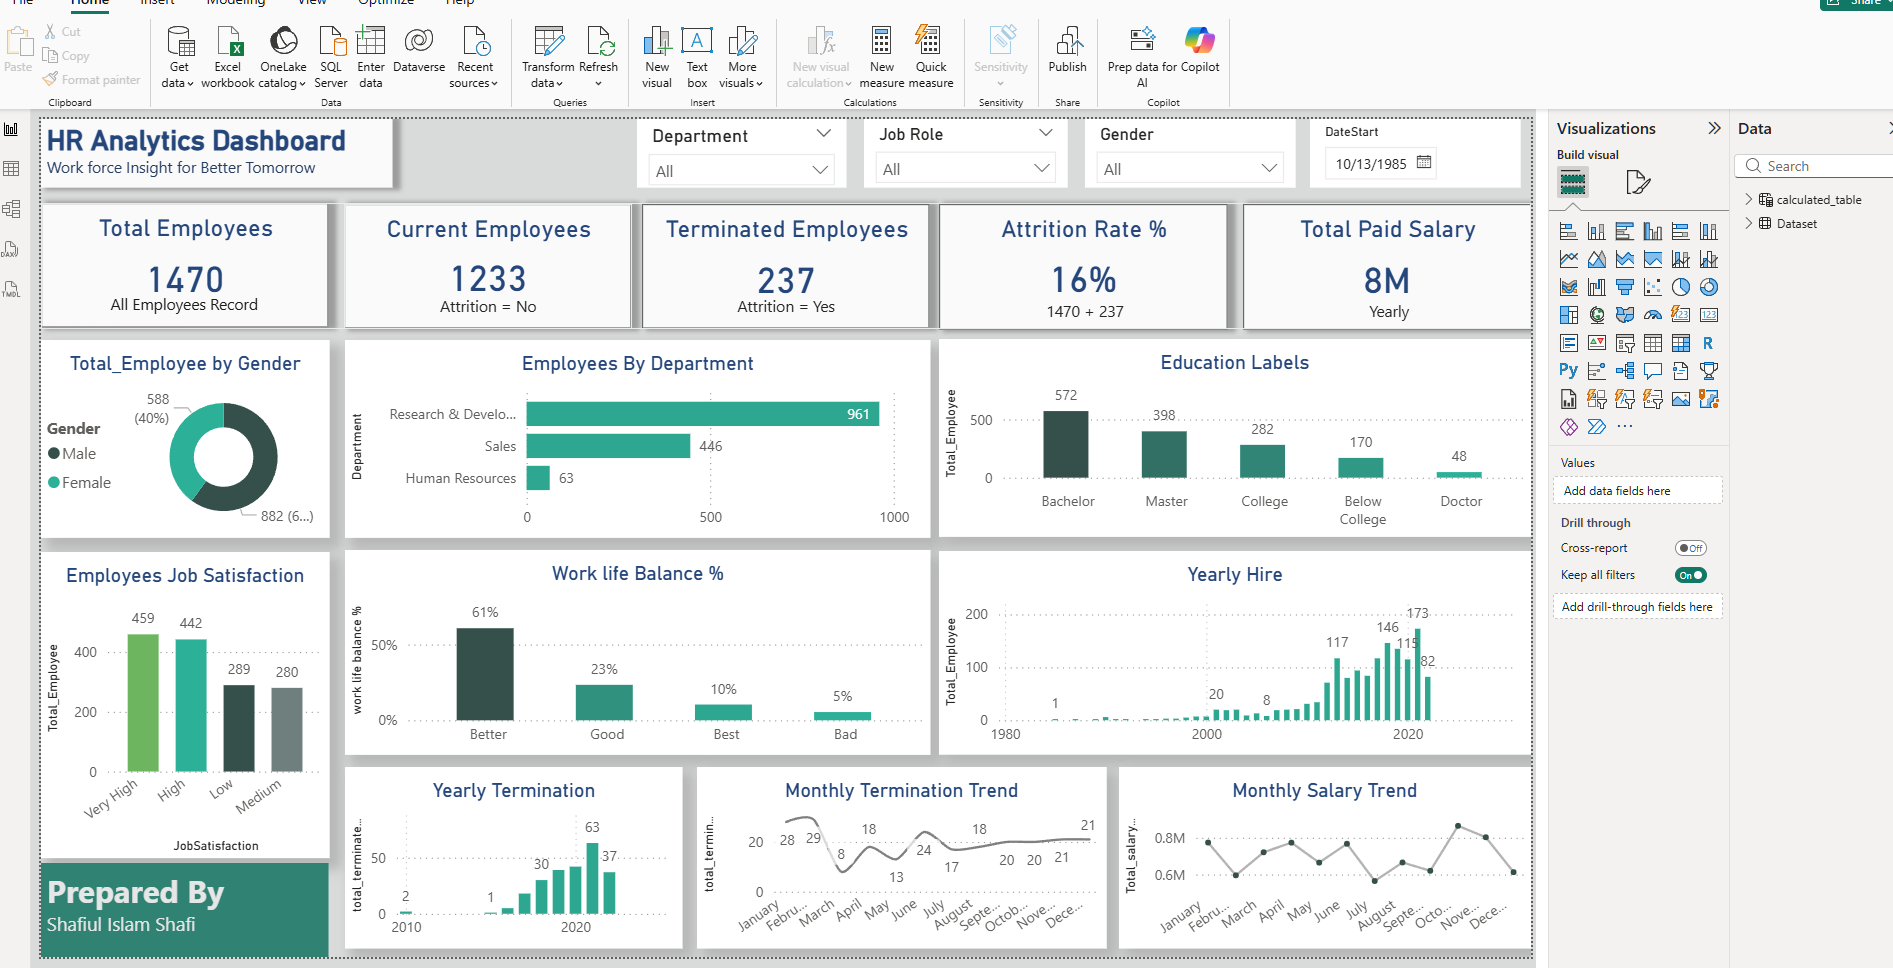

The dashboard page shown, as its layout file describes it:
{"tool":"powerbi","page":{"name":"Page 1","canvas":[1280,720],"ordinal":0},"visuals":[{"type":"textbox","box":[0,0,302.1,58.8],"z":0},{"type":"group","id":"g1","title":"Group 1","box":[0,72.3,247.4,107.3],"z":0,"group":"g3"},{"type":"card","title":"Total Employees","fields":{"Values":["calculated_table.Total_Employee"]},"box":[0,72.3,247.4,107.3],"z":0,"group":"g1"},{"type":"textbox","box":[49.4,73,148.1,30],"z":1000},{"type":"group","id":"g2","title":"Group 2","box":[260.1,73.3,247.7,107.4],"z":1000,"group":"g3"},{"type":"card","title":"Current Employees","fields":{"Values":["calculated_table.Current_Employees"]},"box":[260.1,73.3,247.4,107.3],"z":1000,"group":"g2"},{"type":"card","title":"Terminated Employees","fields":{"Values":["calculated_table.total_terminated_employees"]},"box":[516.6,73.3,247.4,107.3],"z":1000,"group":"g4"},{"type":"card","title":"Attrition Rate %","fields":{"Values":["calculated_table.Attrition Rate"]},"box":[771.3,73.3,247.7,107.8],"z":1000,"group":"g5"},{"type":"card","title":"Total Paid Salary","fields":{"Values":["calculated_table.Total_salary_out"]},"box":[1032.3,73.3,247.7,107.8],"z":1000,"group":"g6"},{"type":"textbox","box":[49.4,145.2,148.1,29.9],"z":1000,"group":"g1"},{"type":"group","id":"g3","title":"Group 3","box":[0,72.3,1280,108.4],"z":2000},{"type":"group","id":"g4","title":"Group 2","box":[516.6,73.3,246.8,107.4],"z":2000,"group":"g3"},{"type":"group","id":"g5","title":"Group 2","box":[771.3,73.3,247.7,107.4],"z":3000,"group":"g3"},{"type":"donutChart","fields":{"Category":["Dataset.Gender"],"Y":["calculated_table.Total_Employee"]},"box":[0,189.5,247.7,170.1],"z":3000},{"type":"textbox","box":[294.3,147.4,179,28.2],"z":3001,"group":"g2"},{"type":"textbox","box":[550.8,147.4,179,28.2],"z":3001,"group":"g4"},{"type":"textbox","box":[807.5,151.9,179,28.2],"z":3001,"group":"g5"},{"type":"textbox","box":[1068.5,151.9,179,28.2],"z":3001,"group":"g6"},{"type":"group","id":"g6","title":"Group 2","box":[1032.3,73.3,247.7,107.4],"z":4000,"group":"g3"},{"type":"clusteredBarChart","title":"Employees By Department","fields":{"Category":["Dataset.Department"],"Y":["calculated_table.Total_Employee"]},"box":[261,189.7,503.3,170.1],"z":4000},{"type":"clusteredColumnChart","title":"Education Labels","fields":{"Y":["calculated_table.Total_Employee"],"Category":["Dataset.Education"]},"box":[771.4,188.8,508.6,170.1],"z":5000},{"type":"columnChart","title":"Employees Job Satisfaction","fields":{"Y":["calculated_table.Total_Employee"],"Category":["Dataset.JobSatisfaction"]},"box":[0,371.9,247.9,262.6],"z":6000},{"type":"clusteredColumnChart","title":"Work life Balance %","fields":{"Category":["Dataset.WorkLifeBalance"],"Y":["calculated_table.work life balance %"]},"box":[260.8,370,503.2,176.3],"z":7000},{"type":"clusteredColumnChart","title":"Yearly Hire","fields":{"Y":["calculated_table.Total_Employee"],"Category":["Dataset.DateStart.Variation.Date Hierarchy.Year"]},"box":[771.3,371,508.7,175.4],"z":8000},{"type":"clusteredColumnChart","title":"Yearly Termination","fields":{"Category":["Dataset.DateDeparture.Variation.Date Hierarchy.Year"],"Y":["calculated_table.total_terminated_employees"]},"box":[260.8,556.4,290.2,156.1],"z":9000},{"type":"lineStackedColumnComboChart","title":"Monthly Termination Trend","fields":{"Category":["Dataset.DateDeparture.Variation.Date Hierarchy.Month"],"Y2":["calculated_table.total_terminated_employees"]},"box":[563.8,556.4,351.7,156.1],"z":10000},{"type":"lineStackedColumnComboChart","title":"Monthly Salary Trend","fields":{"Category":["Dataset.DateStart.Variation.Date Hierarchy.Month"],"Y2":["calculated_table.Total_salary_out"]},"box":[926.5,556.4,353.5,156.1],"z":11000},{"type":"textbox","box":[0,639.1,247,80.8],"z":12000},{"type":"slicer","fields":{"Values":["Dataset.Job Role"]},"box":[707,0,175.4,58.8],"z":13000},{"type":"slicer","fields":{"Values":["Dataset.Department"]},"box":[512.4,0,180,58.8],"z":14000},{"type":"slicer","fields":{"Values":["Dataset.Gender"]},"box":[897.1,0,180.9,58.8],"z":15000},{"type":"slicer","fields":{"Values":["Dataset.DateStart"]},"box":[1089.9,0,180.9,58.8],"z":16000}]}

Visuals, with their boxes on the page's 1280x720 design canvas (x1, y1, x2, y2). These are canvas units, not pixel positions in the 1893x968 screenshot, which may show the page scaled, cropped or inside an application window:
textbox: x1=0, y1=0, x2=302, y2=59
"Group 1" group: x1=0, y1=72, x2=247, y2=180
"Total Employees" card: x1=0, y1=72, x2=247, y2=180
textbox: x1=49, y1=73, x2=198, y2=103
"Group 2" group: x1=260, y1=73, x2=508, y2=181
"Current Employees" card: x1=260, y1=73, x2=508, y2=181
"Terminated Employees" card: x1=517, y1=73, x2=764, y2=181
"Attrition Rate %" card: x1=771, y1=73, x2=1019, y2=181
"Total Paid Salary" card: x1=1032, y1=73, x2=1280, y2=181
textbox: x1=49, y1=145, x2=198, y2=175
"Group 3" group: x1=0, y1=72, x2=1280, y2=181
"Group 2" group: x1=517, y1=73, x2=763, y2=181
"Group 2" group: x1=771, y1=73, x2=1019, y2=181
donutChart - Dataset.Gender x calculated_table.Total_Employee: x1=0, y1=190, x2=248, y2=360
textbox: x1=294, y1=147, x2=473, y2=176
textbox: x1=551, y1=147, x2=730, y2=176
textbox: x1=808, y1=152, x2=986, y2=180
textbox: x1=1068, y1=152, x2=1248, y2=180
"Group 2" group: x1=1032, y1=73, x2=1280, y2=181
"Employees By Department" clusteredBarChart: x1=261, y1=190, x2=764, y2=360
"Education Labels" clusteredColumnChart: x1=771, y1=189, x2=1280, y2=359
"Employees Job Satisfaction" columnChart: x1=0, y1=372, x2=248, y2=634
"Work life Balance %" clusteredColumnChart: x1=261, y1=370, x2=764, y2=546
"Yearly Hire" clusteredColumnChart: x1=771, y1=371, x2=1280, y2=546
"Yearly Termination" clusteredColumnChart: x1=261, y1=556, x2=551, y2=712
"Monthly Termination Trend" lineStackedColumnComboChart: x1=564, y1=556, x2=916, y2=712
"Monthly Salary Trend" lineStackedColumnComboChart: x1=926, y1=556, x2=1280, y2=712
textbox: x1=0, y1=639, x2=247, y2=720
slicer - Dataset.Job Role: x1=707, y1=0, x2=882, y2=59
slicer - Dataset.Department: x1=512, y1=0, x2=692, y2=59
slicer - Dataset.Gender: x1=897, y1=0, x2=1078, y2=59
slicer - Dataset.DateStart: x1=1090, y1=0, x2=1271, y2=59
